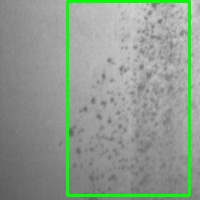pitted_surface: (67, 1, 189, 195)
